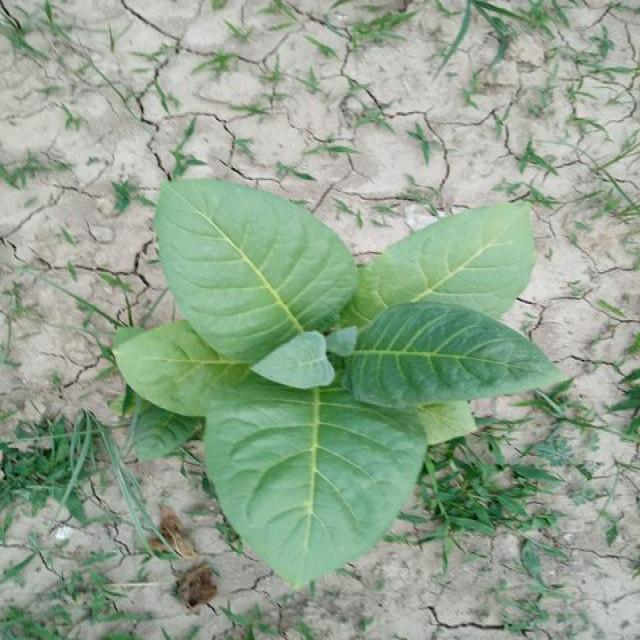crop: (123, 188, 542, 578)
